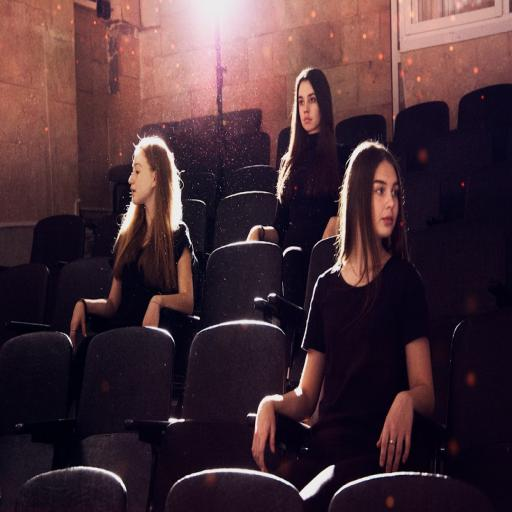face: (369, 174, 401, 233), (298, 89, 321, 132), (129, 156, 149, 202)
